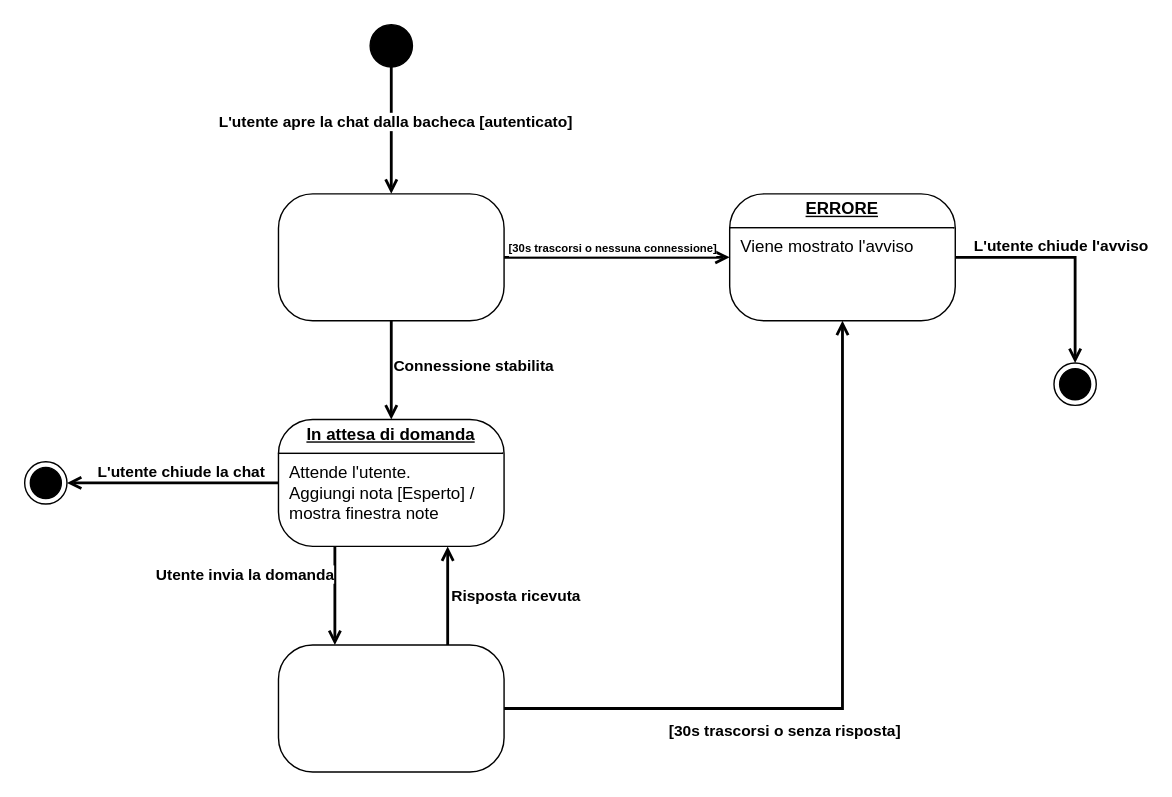
The diagram is 1172 pixels wide and 797 high, and some of its shapes have lost their labels. The centre of each missing label's shape, as x and y in pixels:
In attesa di risposta entry / recupera il contesto e invia la richiesta: point (390, 708)
In Connessione Entry / mostra caricamento e tenta la connessione: point (390, 256)
